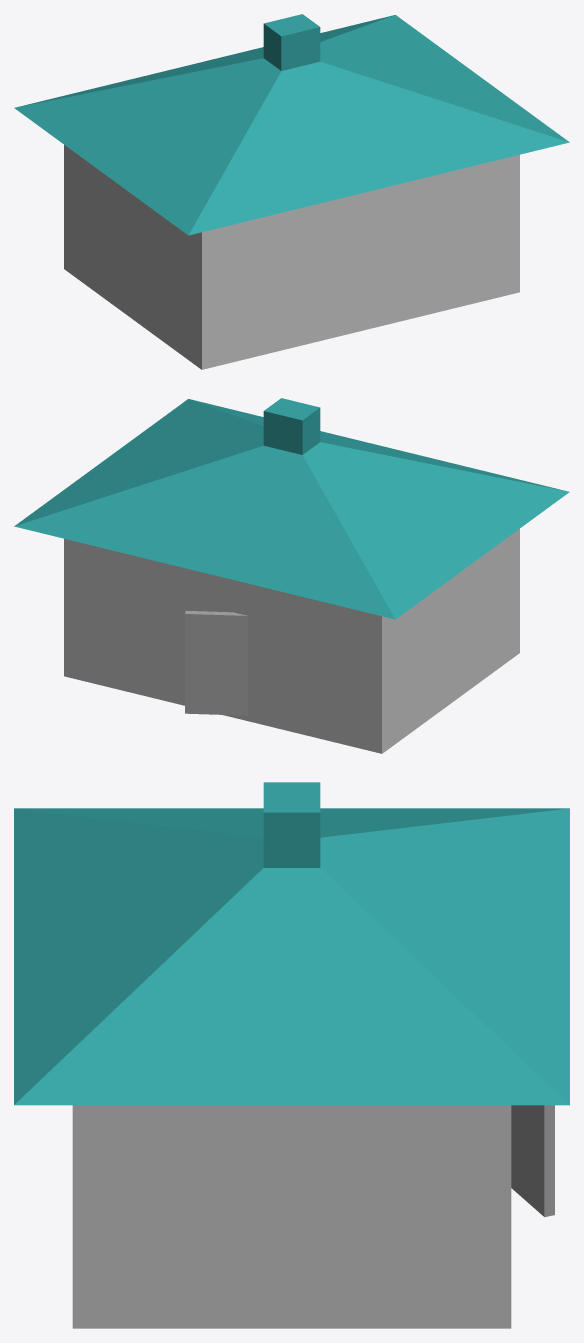
File: kleines haus_combined.fbx
The picture shows the model from 3 angles, top to bottom: view 1: azimuth 30°, elevation 25°; view 2: azimuth 150°, elevation 25°; view 3: azimuth 270°, elevation 25°; orthographic projection. The views are drawn at different scales.
Parts seen in each view (by area): view 1: Cube.003; view 2: Cube.003; view 3: Cube.003.
Boxes of the visible parts, left/top/right/bottom form: Cube.003: left=14, top=14, right=569, bottom=369; Cube.003: left=14, top=398, right=569, bottom=753; Cube.003: left=14, top=782, right=569, bottom=1328.
Bounding box in the file's own units: 480 × 307 × 380.
